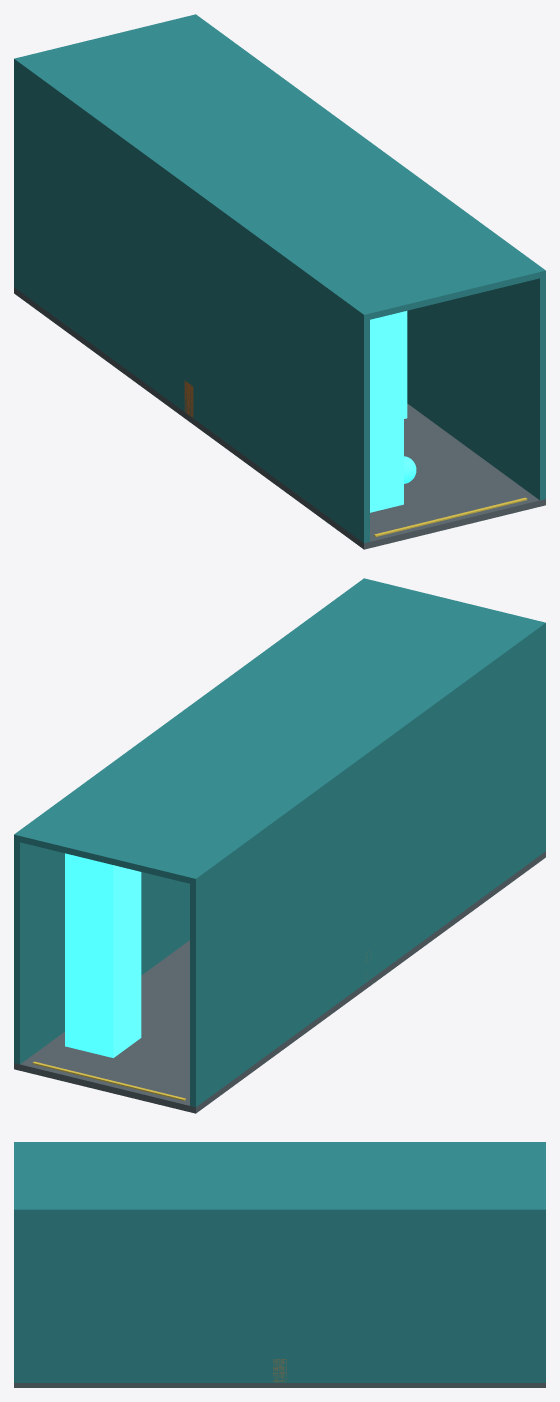
The model's file is saltglass_corridor_section_graybox.glb.
3 views of the same model, one above another, from view 1: azimuth 30°, elevation 25°; view 2: azimuth 150°, elevation 25°; view 3: azimuth 270°, elevation 25° (orthographic). The views are drawn at different scales.
Parts seen in each view (by area): view 1: SGC_Wall_Corridor_West_TierB, SGC_Ceiling_Corridor_TierB, SGC_Wall_Corridor_East_TierB, SGC_Floor_Corridor_6x20, SGC_Pillar_Corridor_01_West; view 2: SGC_Wall_Corridor_West_TierB, SGC_Ceiling_Corridor_TierB, SGC_Pillar_Corridor_04_East, SGC_Wall_Corridor_East_TierB, SGC_Floor_Corridor_6x20; view 3: SGC_Wall_Corridor_East_TierB, SGC_Ceiling_Corridor_TierB, SGC_Floor_Corridor_6x20.
Part boxes in pixels (box(x1,y1,x2,y2)): SGC_Wall_Corridor_West_TierB: box(14, 65, 369, 543); SGC_Ceiling_Corridor_TierB: box(14, 14, 545, 321); SGC_Wall_Corridor_East_TierB: box(407, 277, 545, 500); SGC_Floor_Corridor_6x20: box(14, 287, 545, 549); SGC_Pillar_Corridor_01_West: box(370, 311, 403, 512); SGC_Wall_Corridor_West_TierB: box(190, 629, 545, 1107); SGC_Ceiling_Corridor_TierB: box(14, 578, 545, 885); SGC_Pillar_Corridor_04_East: box(65, 853, 141, 1057); SGC_Wall_Corridor_East_TierB: box(14, 841, 189, 1064); SGC_Floor_Corridor_6x20: box(14, 851, 545, 1113); SGC_Wall_Corridor_East_TierB: box(14, 1214, 545, 1382); SGC_Ceiling_Corridor_TierB: box(14, 1142, 545, 1214); SGC_Floor_Corridor_6x20: box(14, 1383, 545, 1387).
Bounding box in the file's own units: 6 × 7.4 × 20.
